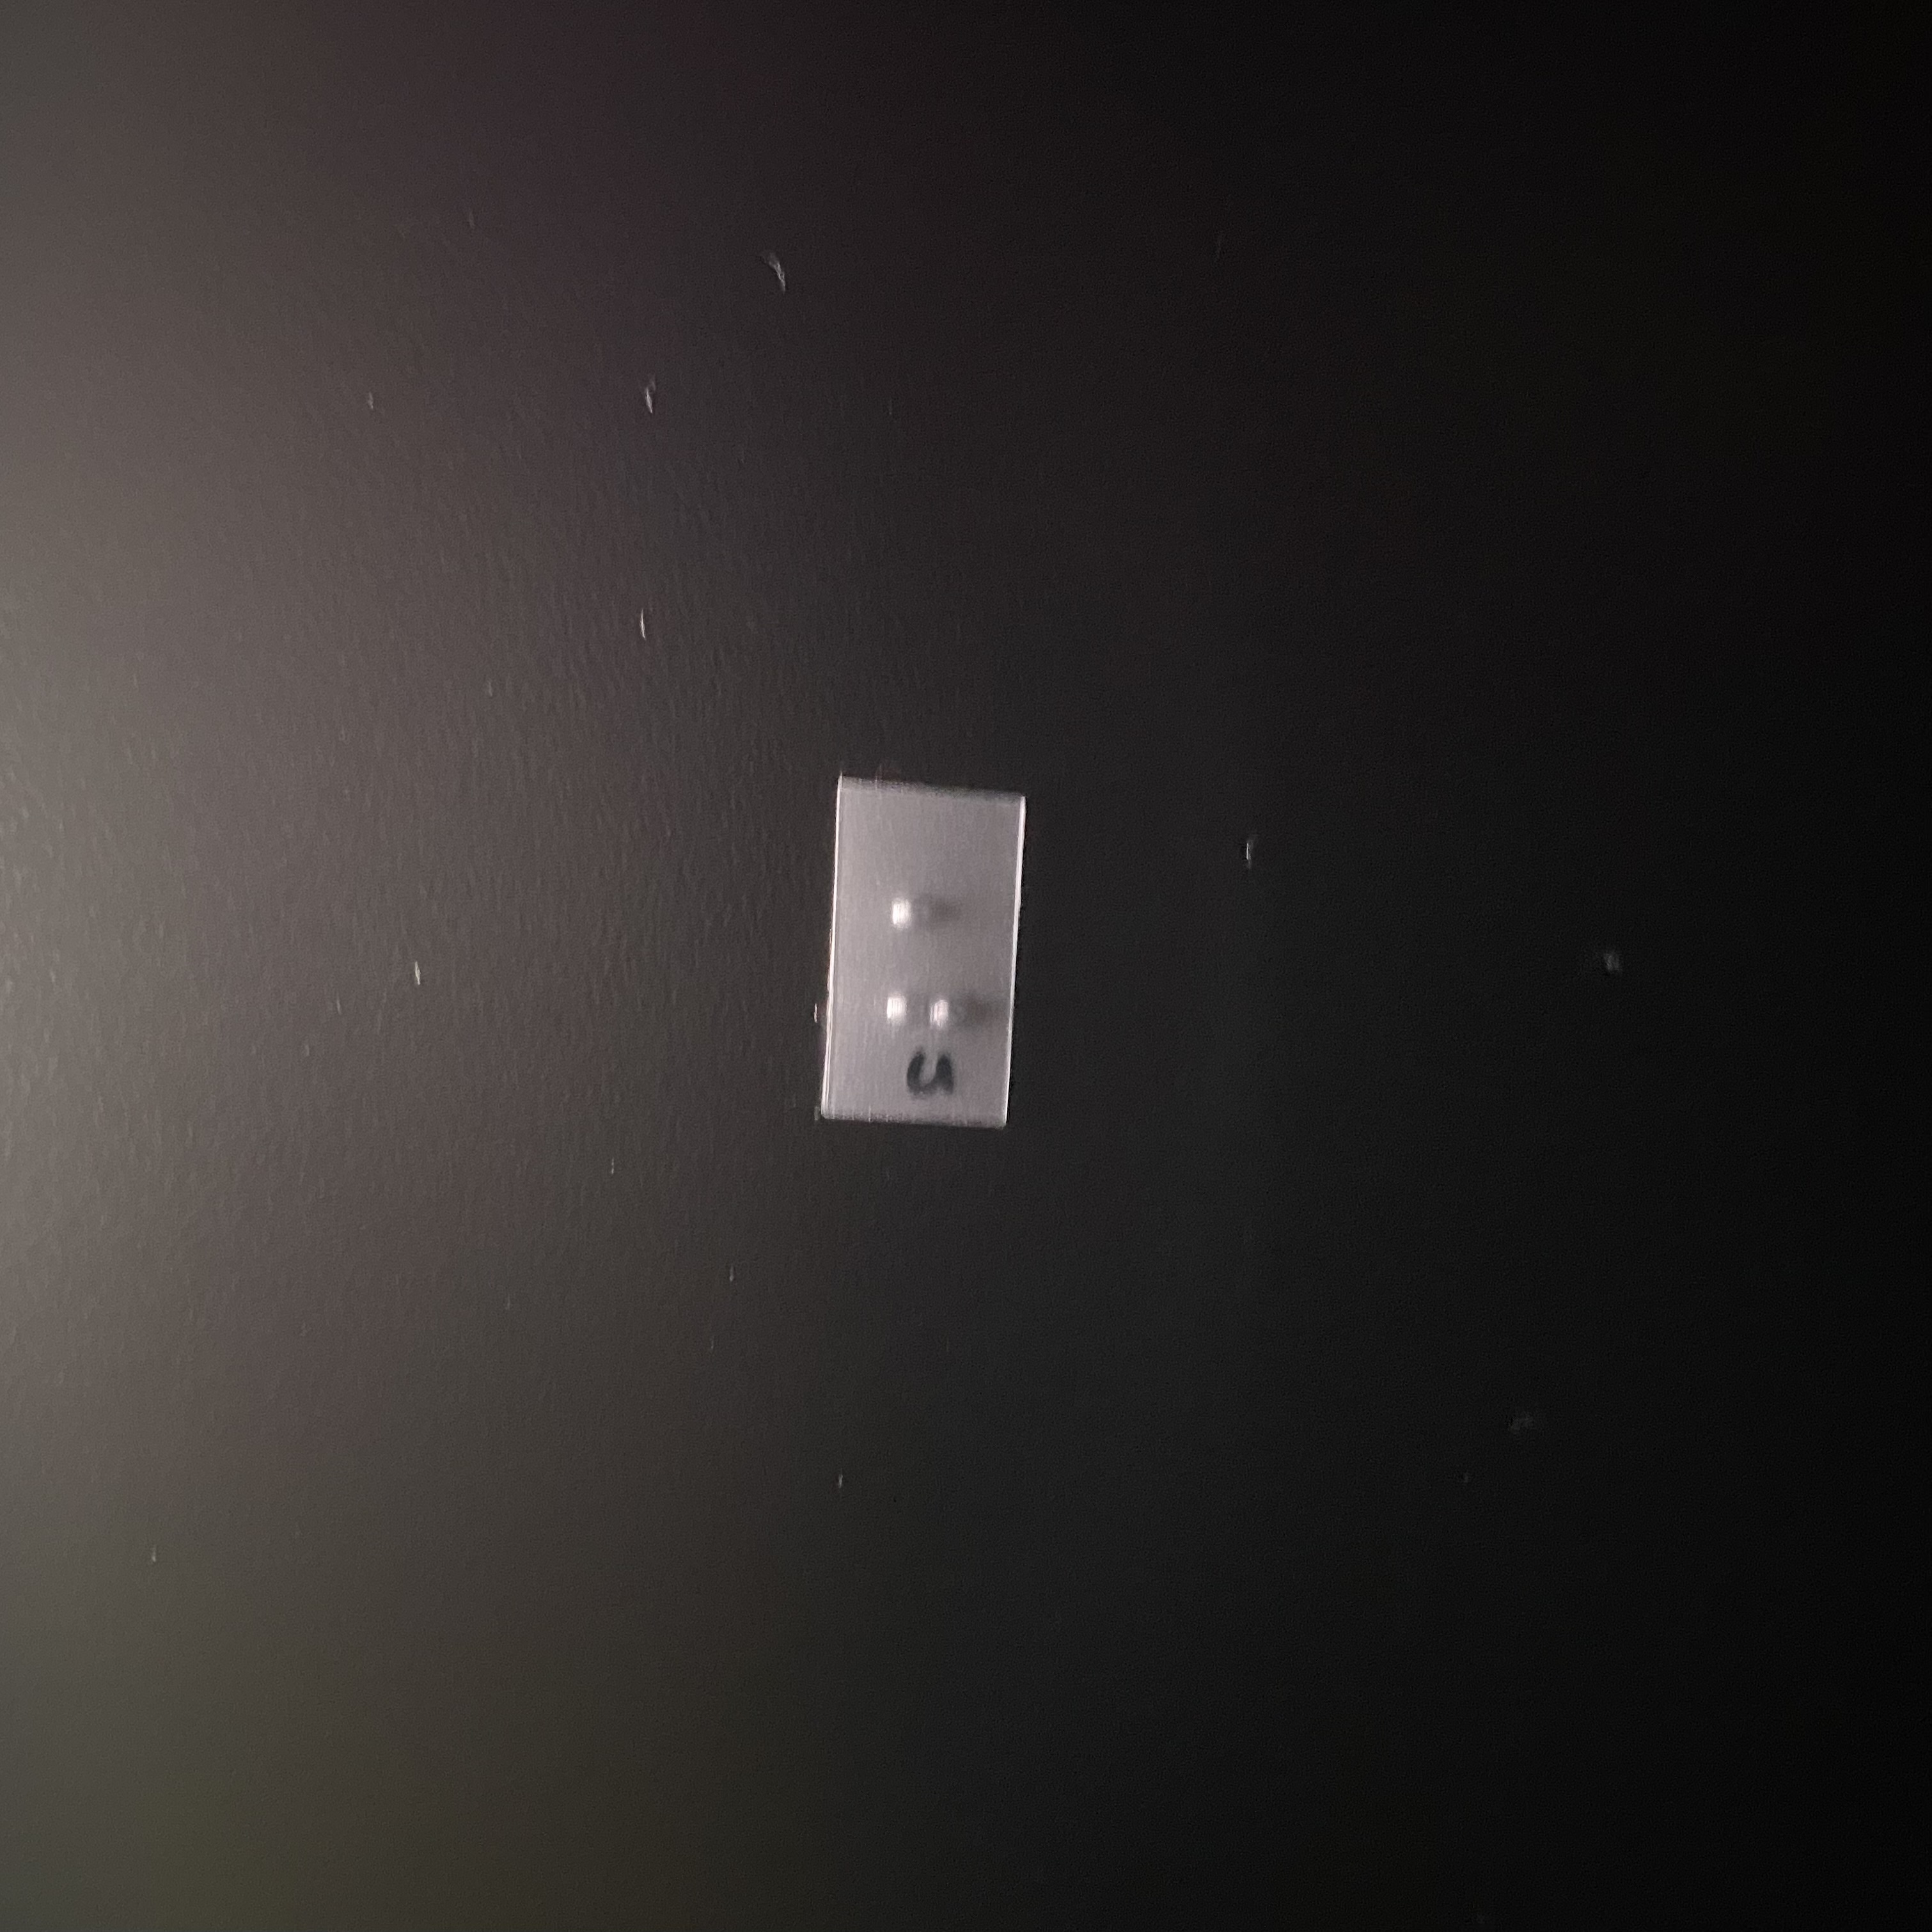u: (877, 872, 988, 1044)
